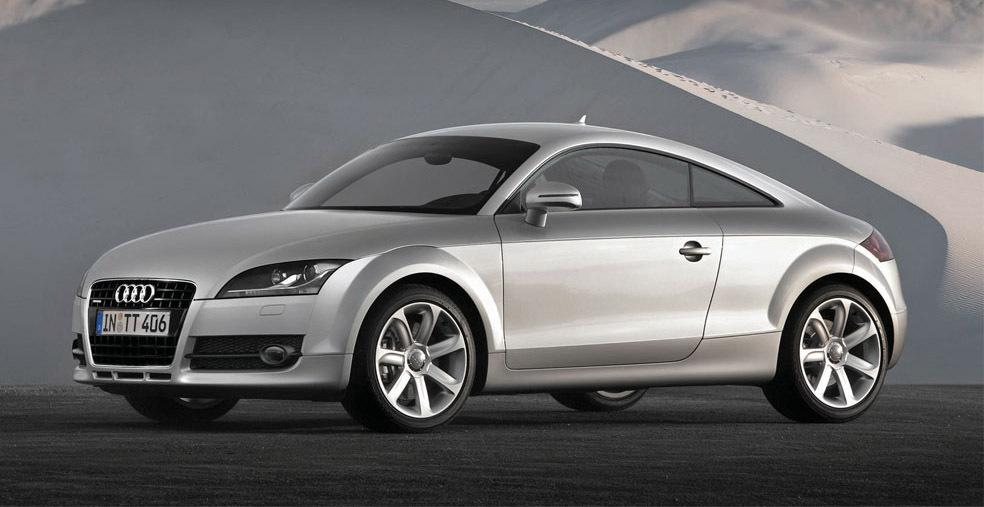car: (52, 114, 907, 429)
